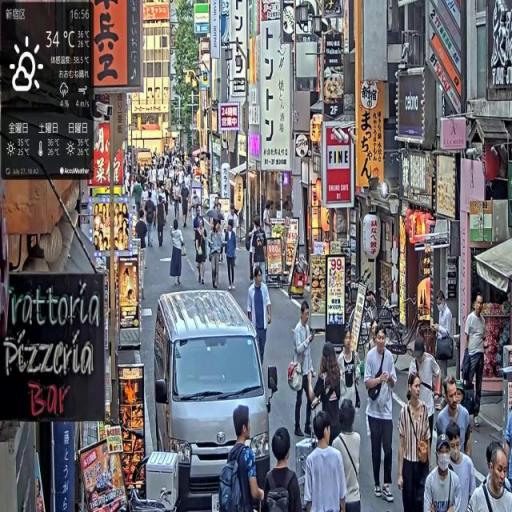person: (364, 320, 398, 507), (397, 368, 433, 512), (218, 406, 266, 512), (304, 413, 349, 512), (461, 292, 490, 428), (291, 300, 318, 439), (333, 397, 364, 512), (309, 344, 343, 448), (263, 426, 304, 512), (467, 441, 512, 512), (436, 376, 472, 463), (443, 423, 478, 512), (424, 437, 465, 511), (247, 266, 274, 369), (434, 291, 455, 401), (338, 332, 363, 417), (208, 220, 226, 293), (170, 217, 187, 288), (224, 220, 239, 291), (195, 224, 210, 289), (145, 191, 158, 249), (157, 192, 168, 248)
